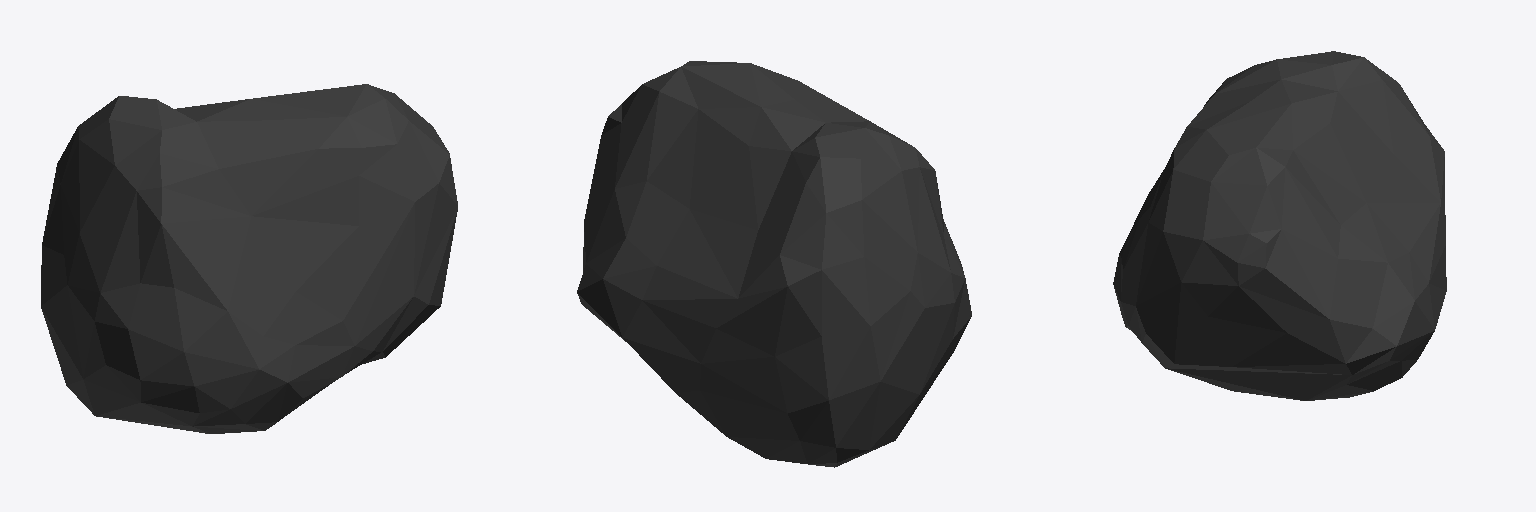
Rendered from Ast7.obj.
The picture shows the model from 3 angles: view 1: azimuth 30°, elevation 25°; view 2: azimuth 150°, elevation 25°; view 3: azimuth 270°, elevation 25°; orthographic projection.
Parts seen in each view (by area): view 1: Asteroid_2.005; view 2: Asteroid_2.005; view 3: Asteroid_2.005.
Part boxes in pixels (left/top/right/bottom): Asteroid_2.005: left=41, top=84, right=457, bottom=433; Asteroid_2.005: left=577, top=61, right=971, bottom=467; Asteroid_2.005: left=1113, top=51, right=1446, bottom=400.
Bounding box in the file's own units: 423 × 363 × 351.